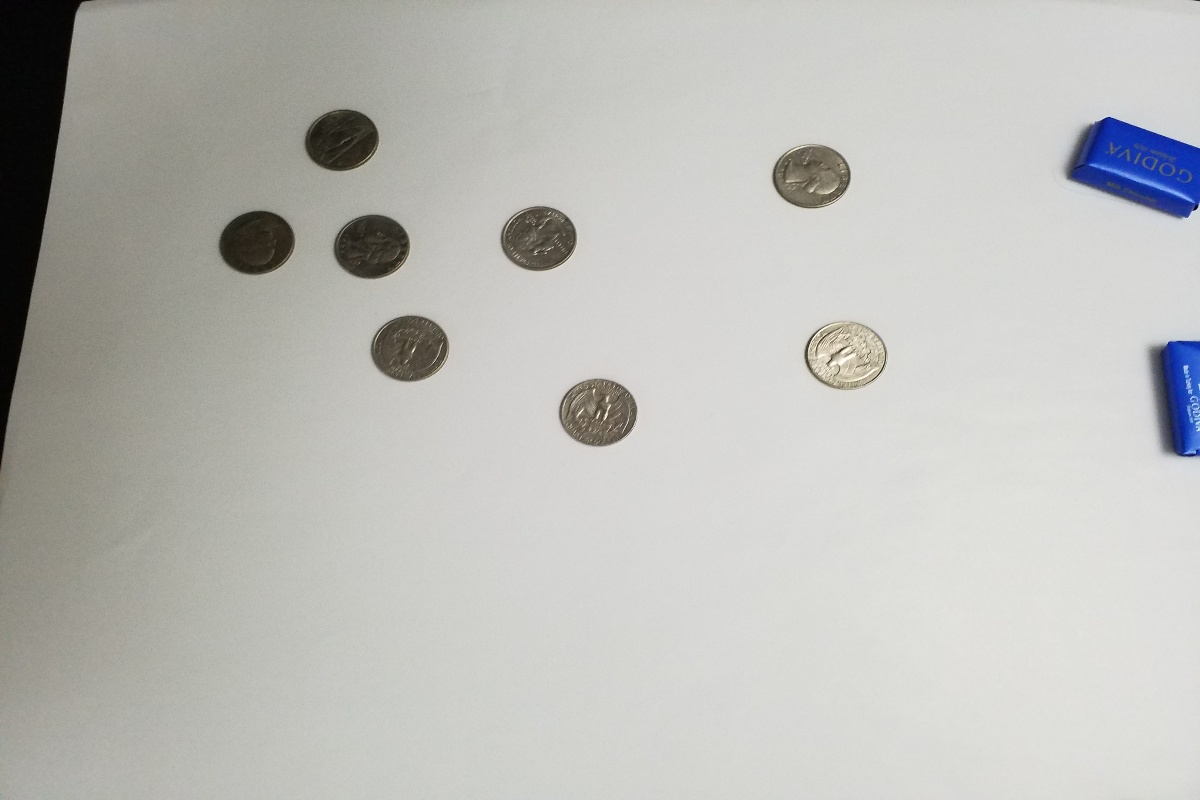chocolate_blue: (1052, 107, 1200, 223)
coin_quarter: (324, 202, 427, 295), (792, 311, 896, 399), (548, 368, 645, 459), (356, 308, 459, 393), (206, 204, 309, 288), (768, 134, 859, 223), (297, 97, 388, 182), (494, 196, 583, 277)
